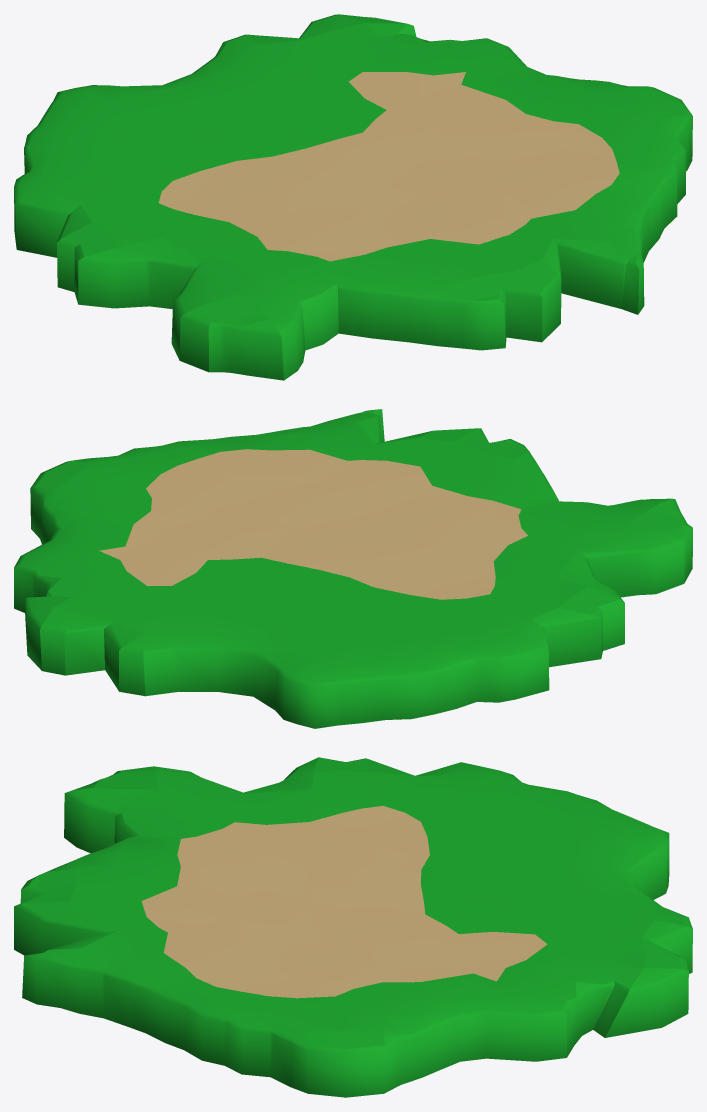
The model's file is mapFloor.fbx.
3 views of the same model, one above another, from view 1: azimuth 30°, elevation 25°; view 2: azimuth 150°, elevation 25°; view 3: azimuth 270°, elevation 25° (orthographic). The views are drawn at different scales.
Visible parts, largest first — view 1: grama, chãoAreia; view 2: grama, chãoAreia; view 3: grama, chãoAreia.
Boxes of the visible parts, x1,y1,x2,y2 form: grama: [14, 14, 692, 380]; chãoAreia: [158, 72, 619, 261]; grama: [14, 409, 692, 728]; chãoAreia: [99, 449, 527, 599]; grama: [14, 757, 692, 1097]; chãoAreia: [141, 806, 547, 998].
Bounding box in the file's own units: 245389 × 19343 × 237079.
